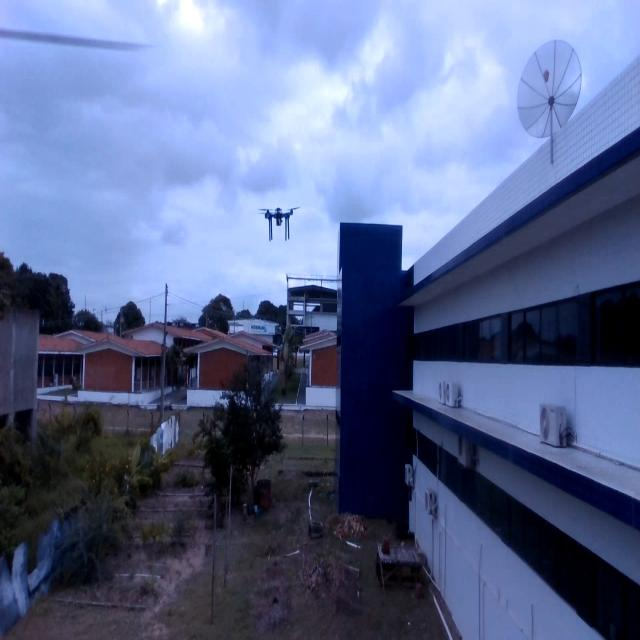-uav-: (258, 190, 304, 253)
